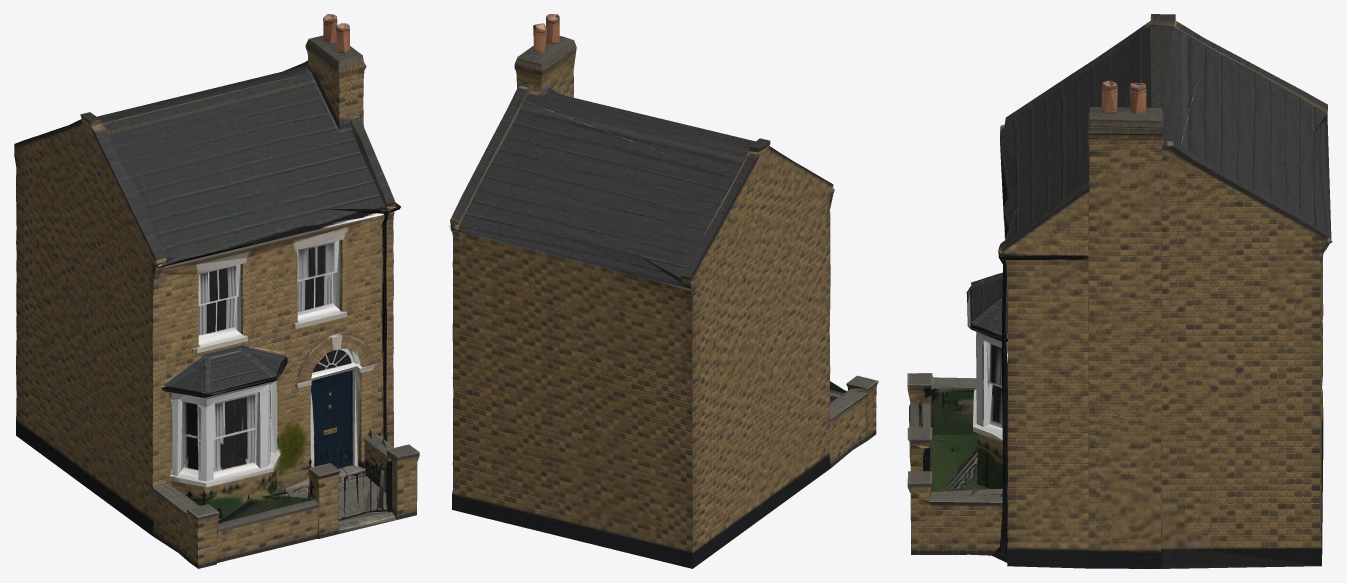
Rendered from prop_house_victorian.glb.
The picture shows the model from 3 angles, left to right: view 1: azimuth 30°, elevation 25°; view 2: azimuth 150°, elevation 25°; view 3: azimuth 270°, elevation 25°; orthographic projection. The views are drawn at different scales.
Visible parts, largest first — view 1: Mesh_0; view 2: Mesh_0; view 3: Mesh_0.
Boxes of the visible parts, x1,y1,x2,y2 form: Mesh_0: (14, 14, 419, 568); Mesh_0: (449, 14, 878, 568); Mesh_0: (907, 14, 1332, 568).
Bounding box in the file's own units: 1.17 × 1.9 × 1.53.
Materials: 1 (1 with a texture image).
